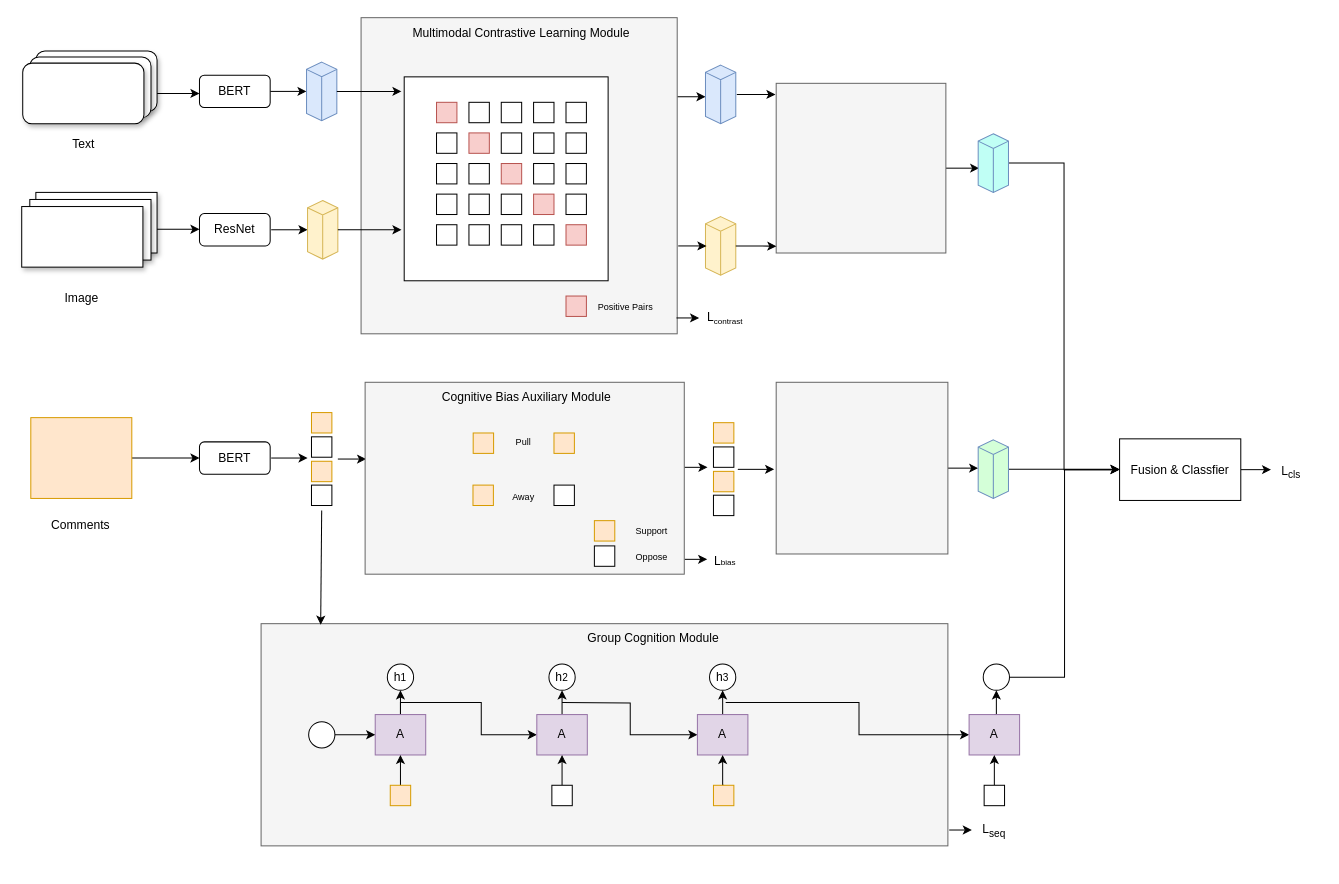
This 1339x884 diagram has some shape labels left out. Here are the shapes that lost their labels. From the top down, the centre of each, then its label:
the point at 860,167: Co-Attention & Fusion
the point at 81,457: C1 C2 C3 ...
the point at 861,467: Weighted Combination
the point at 995,676: h n
the point at 321,734: h 0
